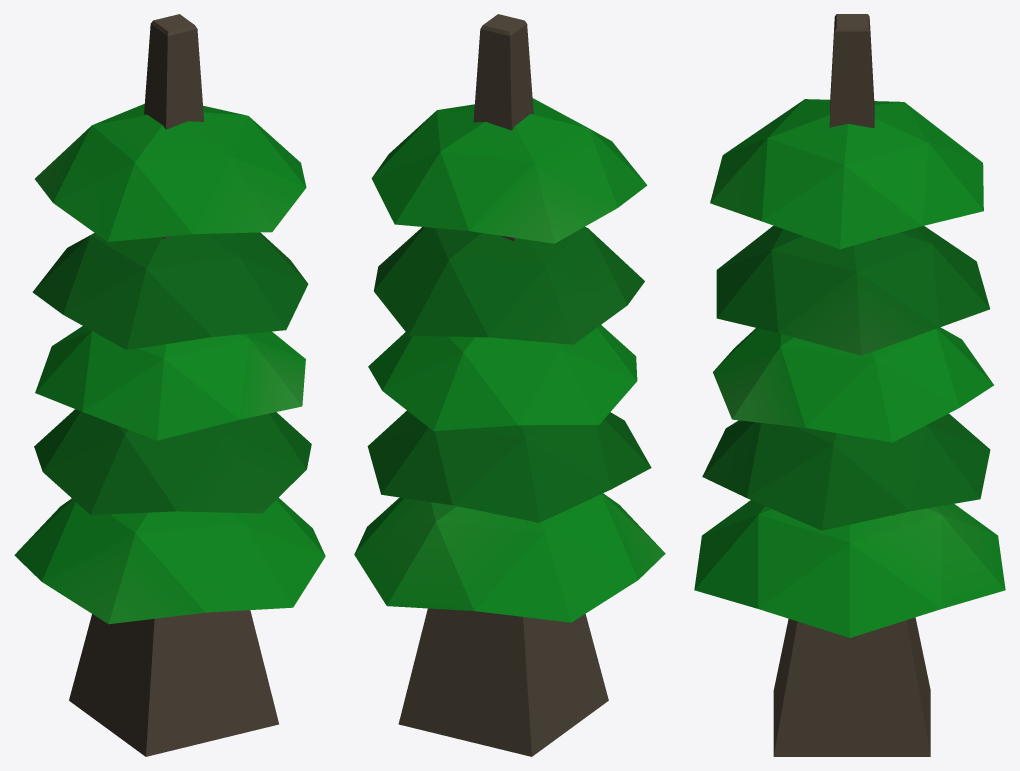
The model's file is Pine Tree.dae.
The picture shows the model from 3 angles, left to right: view 1: azimuth 30°, elevation 25°; view 2: azimuth 150°, elevation 25°; view 3: azimuth 270°, elevation 25°; orthographic projection.
Visible parts, largest first — view 1: Icosphere.001; view 2: Icosphere.001; view 3: Icosphere.001.
Part boxes in pixels (x1,y1,x2,y2): Icosphere.001: [14, 14, 325, 756]; Icosphere.001: [354, 14, 665, 756]; Icosphere.001: [694, 14, 1005, 756].
Size of the model in its own units: 1.75 by 1.71 by 4.25.
